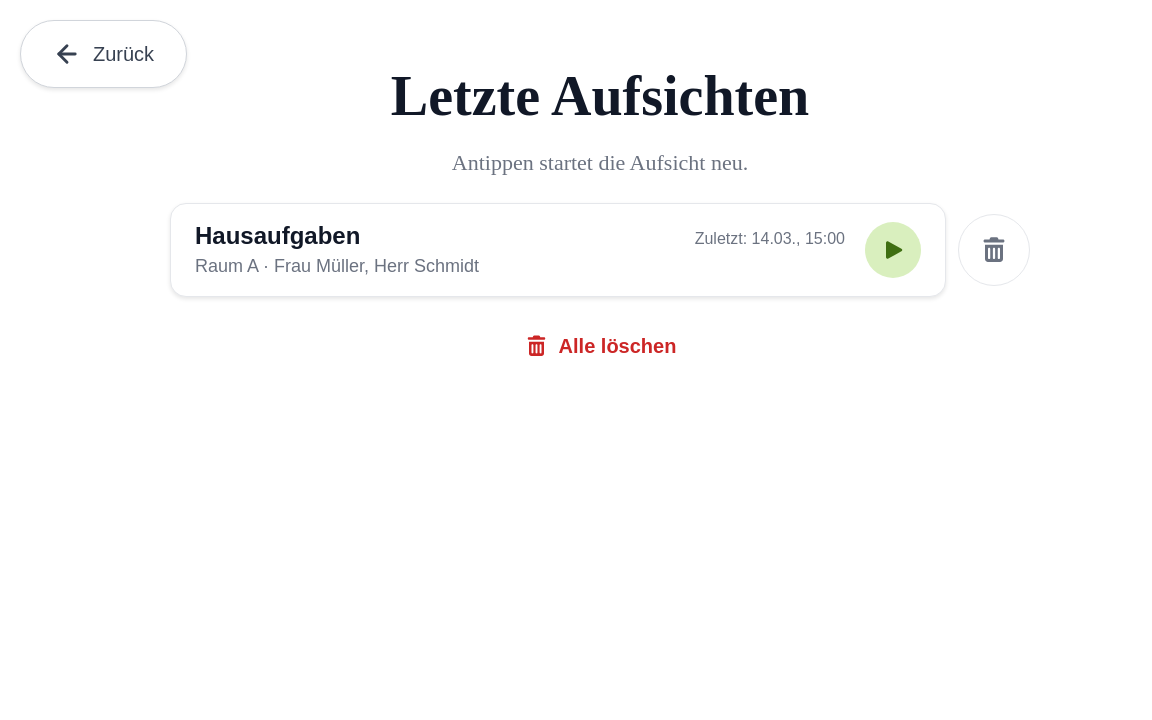
it: SessionHistoryPage session recreation behavior › shows the specific network error message when recreation fails with a network error
This screenshot has width=1152, height=720.
Click the button "Raum A · ": coordinates (278, 236) [170,203,946,297]
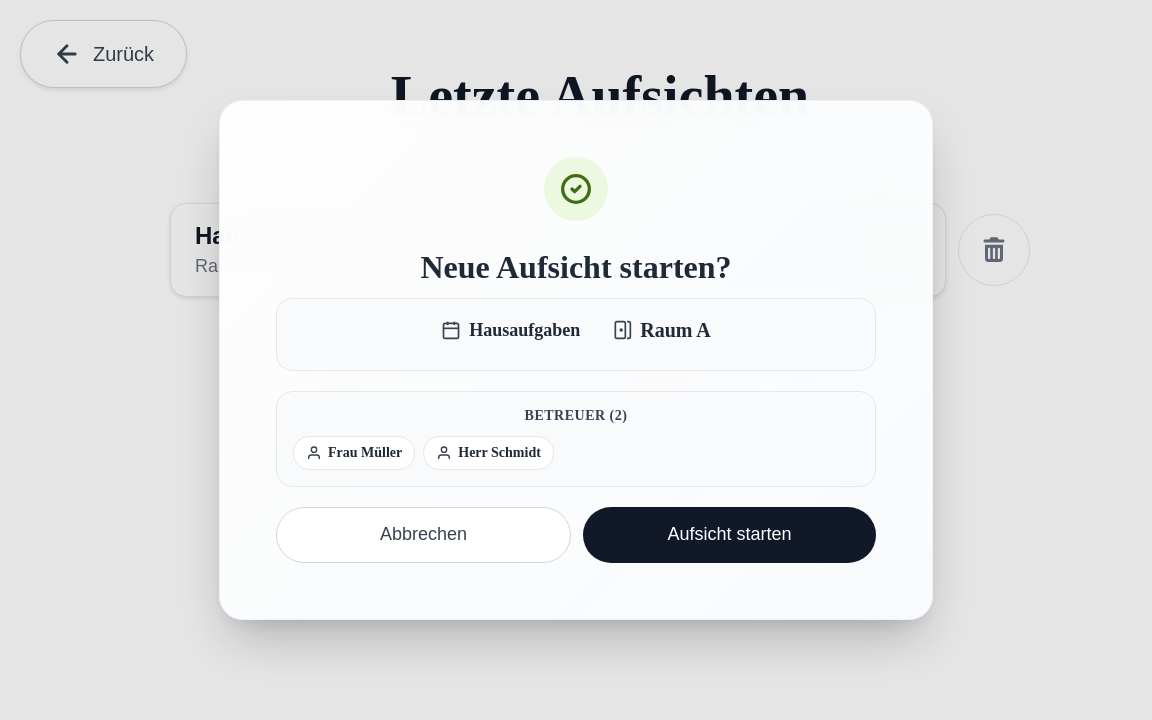
Now the heading "Neue Aufsicht starten?" is shown, box [420,249,732,285]
Click the button "Aufsicht starten": coordinates (730, 535) [583,507,876,563]
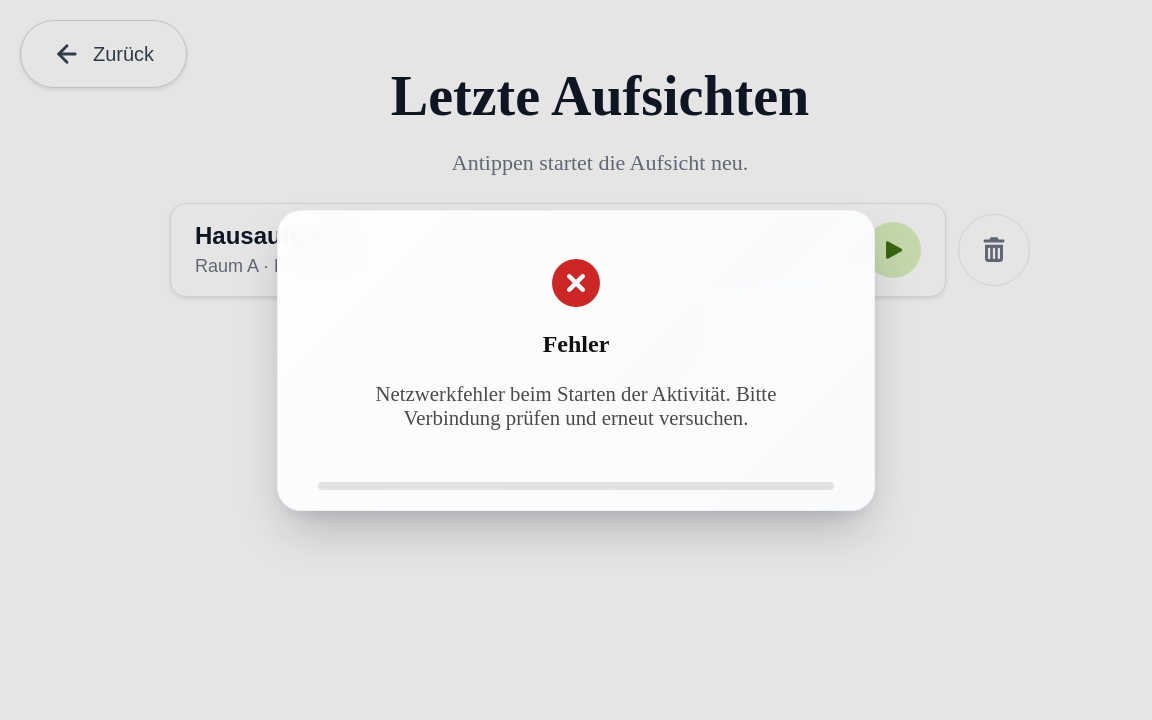
Now the text "Netzwerkfehler beim Starten der Aktivität. Bitte Verbindung prüfen und erneut versuchen." is shown, box [376,382,776,428]
